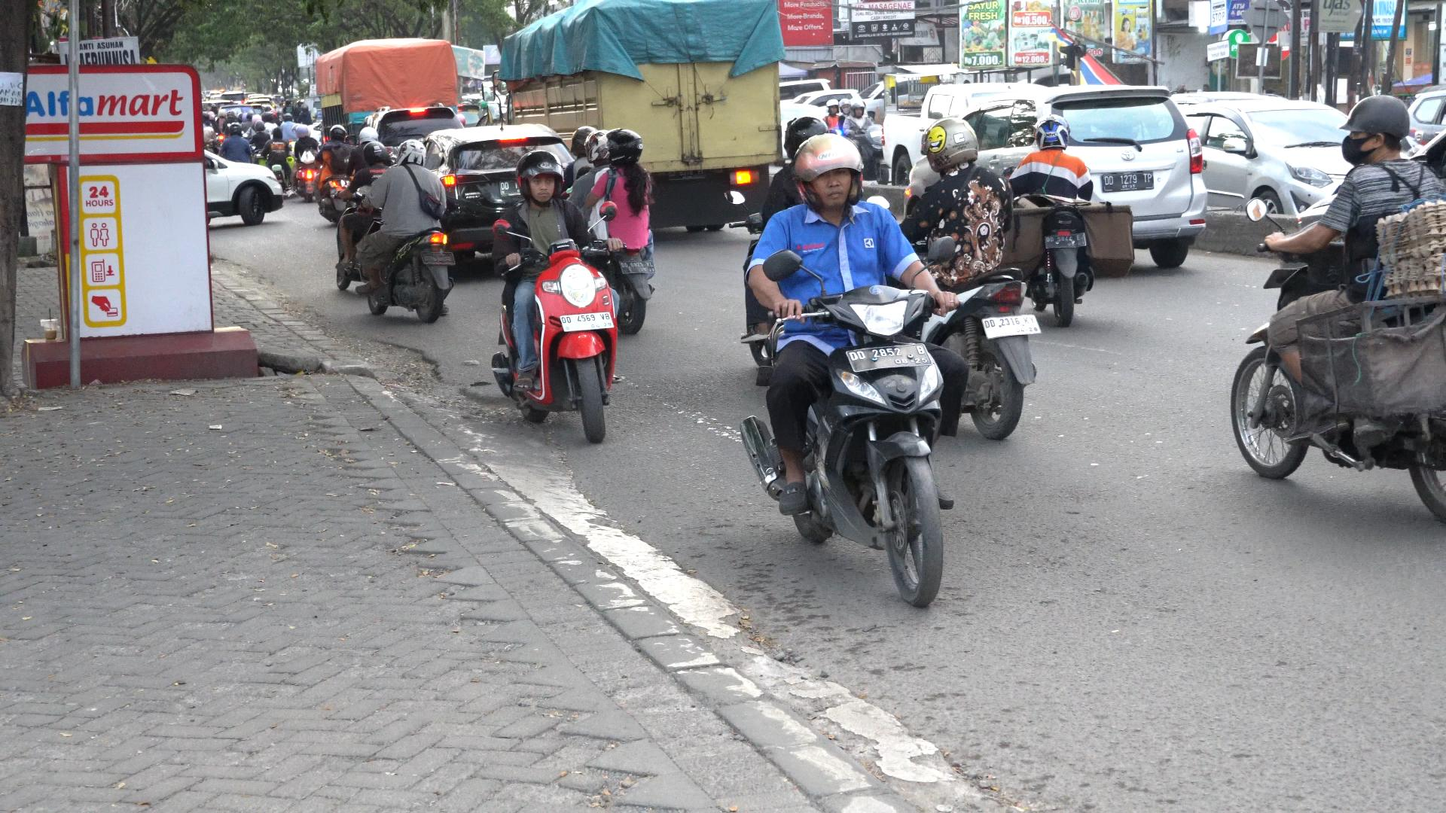number-plate: (850, 337, 929, 375), (560, 309, 615, 333)
